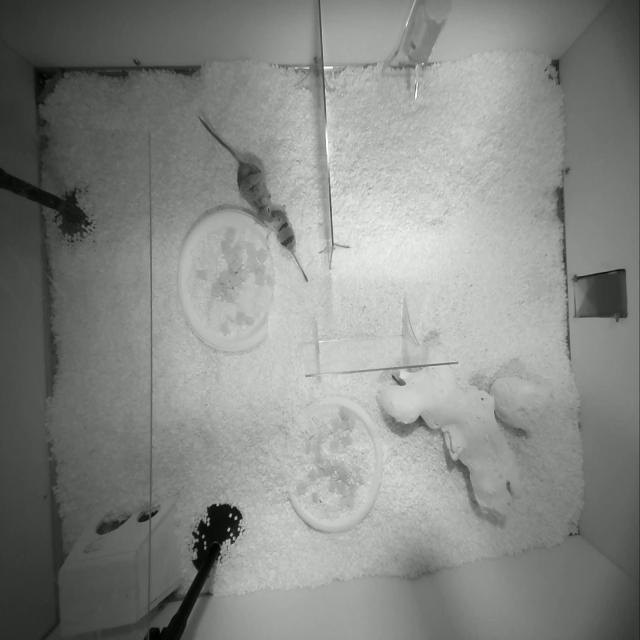adult_back: (199, 116, 271, 223)
pup_h_stripe: (271, 209, 308, 281)
